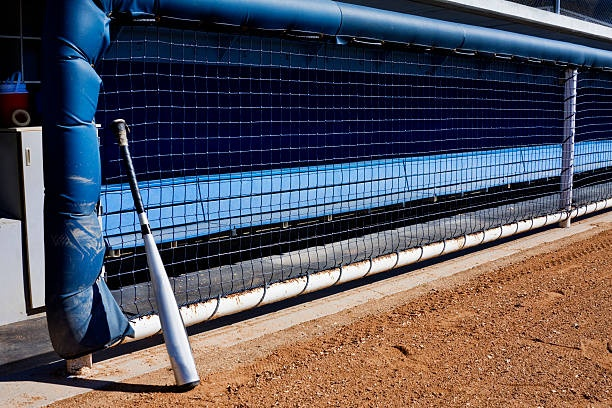bita: (112, 115, 202, 386)
